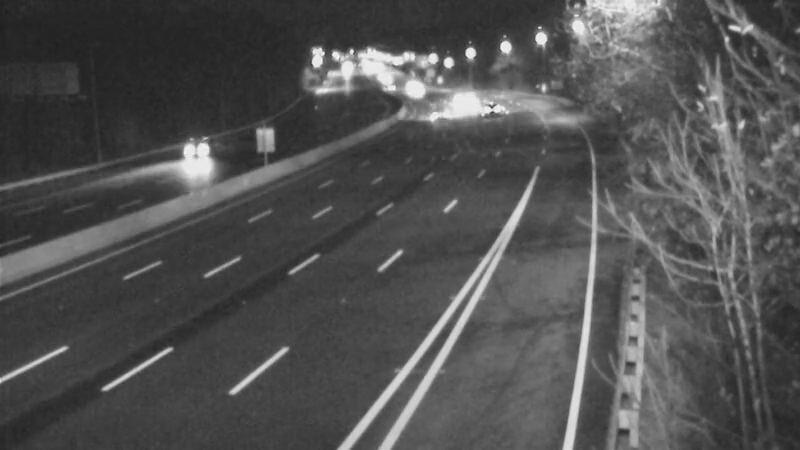vehicle: (165, 112, 245, 192), (367, 60, 417, 110), (393, 66, 443, 116), (439, 78, 489, 128), (461, 81, 511, 131), (408, 86, 458, 136)
